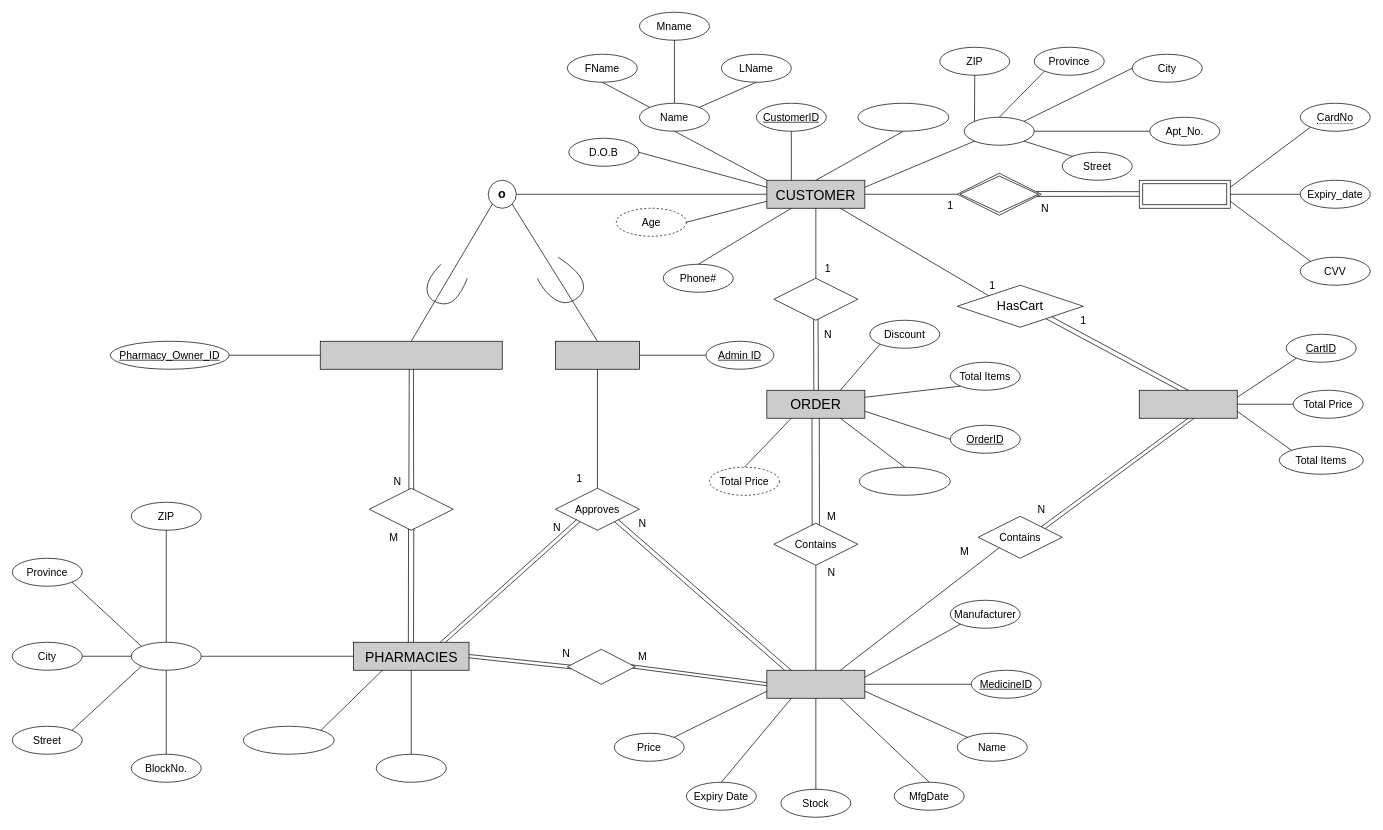
This 1383x830 diagram has some shape labels left out. Here are the shapes that lost their labels. From the top down, the centre of each, then its label:
At point (903, 117): "email-address".
At point (999, 131): "Address".
At point (999, 194): "Has".
At point (1184, 194): "PaymentInfo".
At point (815, 299): "Places".
At point (411, 355): "PHARMACY_OWNERS".
At point (597, 355): "ADMINS".
At point (1188, 404): "CART".
At point (904, 481): "PaymentStatus".
At point (411, 509): "OWNS".
At point (166, 656): "Location".
At point (601, 666): "Sells".
At point (815, 684): "MEDICINES".
At point (288, 740): "PharmacyName".
At point (411, 768): "StoreID".
